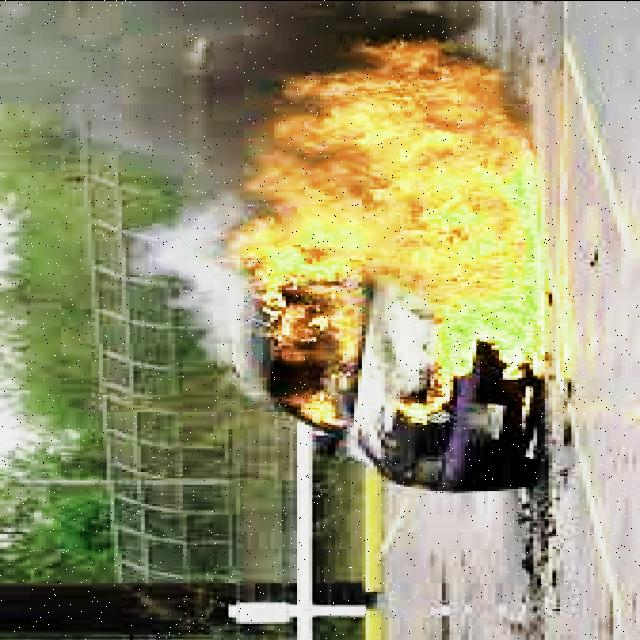api: (203, 59, 569, 378)
